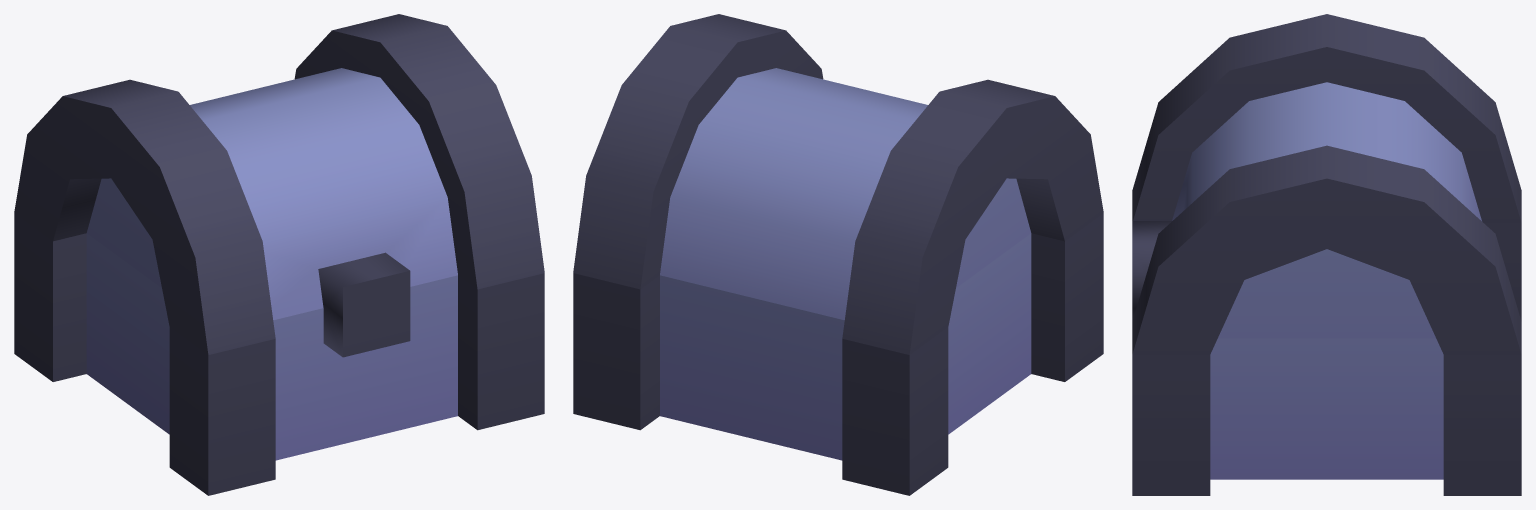
The model's file is chest.fbx.
3 renders of one model, left to right at view 1: azimuth 30°, elevation 25°; view 2: azimuth 150°, elevation 25°; view 3: azimuth 270°, elevation 25°, orthographic.
Parts seen in each view (by area): view 1: lid, chest; view 2: lid, chest; view 3: lid, chest.
Boxes of the visible parts, x1,y1,x2,y2 form: lid: (14, 14, 544, 357); chest: (14, 213, 544, 495); lid: (573, 14, 1103, 354); chest: (573, 213, 1103, 495); lid: (1132, 14, 1521, 354); chest: (1132, 223, 1521, 495).
Size of the model in its own units: 128 by 115 by 128.
